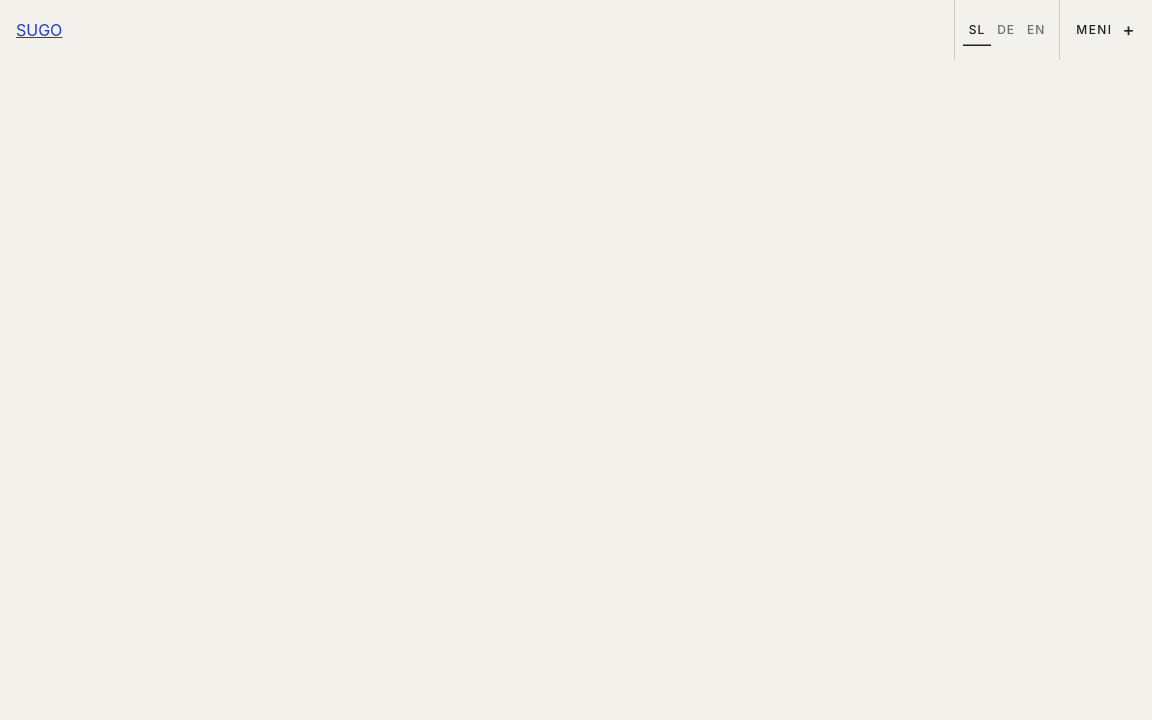
Test case: closes the menu when a sheet is chosen
The width and height of the screenshot is (1152, 720).
Click the button "Meni +" at {"x": 1106, "y": 30}, box [1059,0,1151,60]
(page scrolled)
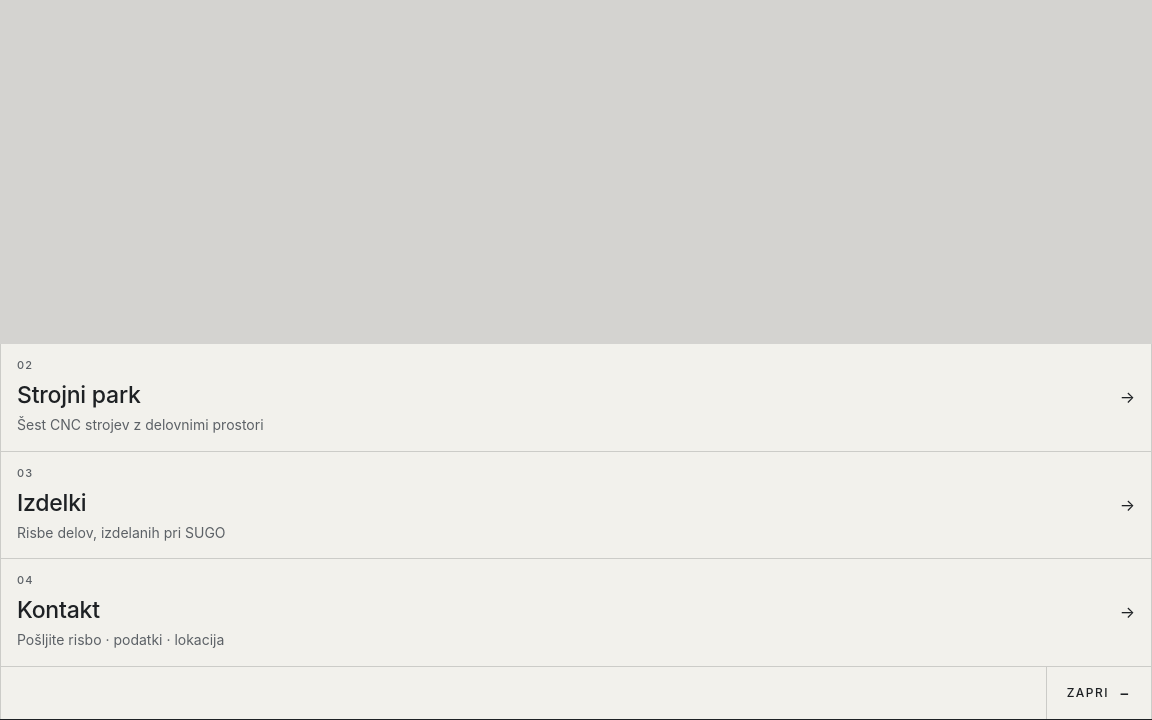
Click the link "04 Kontakt → Pošljite risbo · podatki · lokacija" at {"x": 58, "y": 610}, box [1,559,1151,666]
(page scrolled)
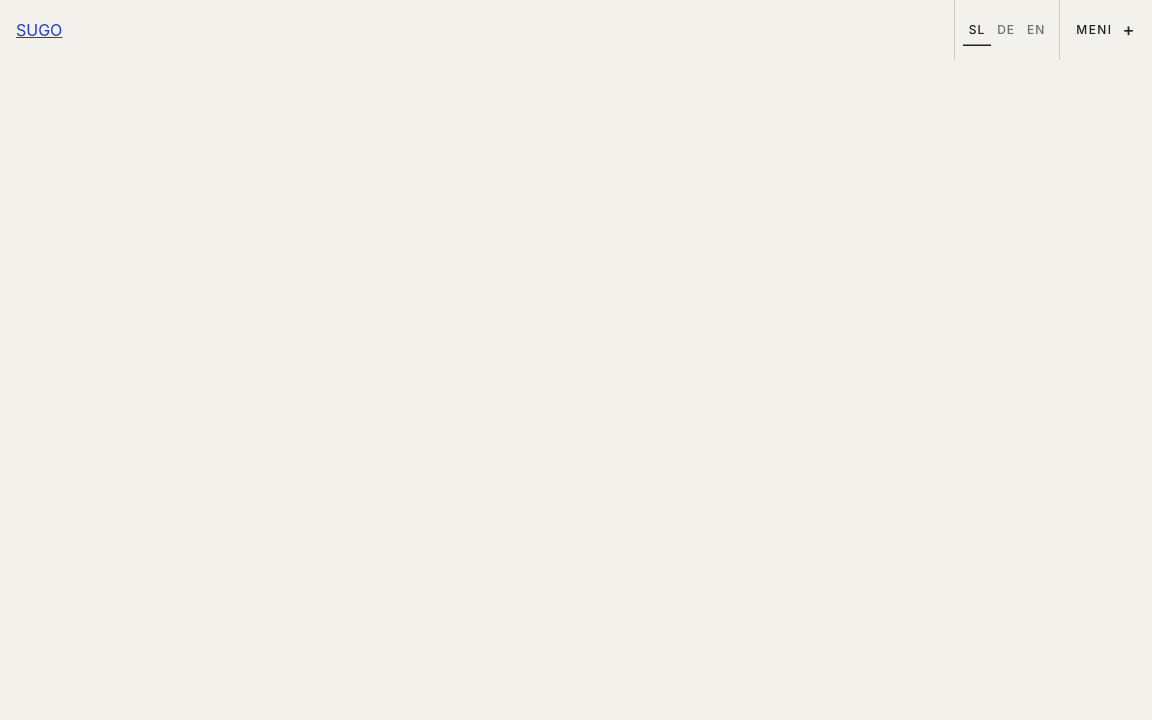
Result: the button "Meni +" is collapsed at [1059,0,1151,60]
